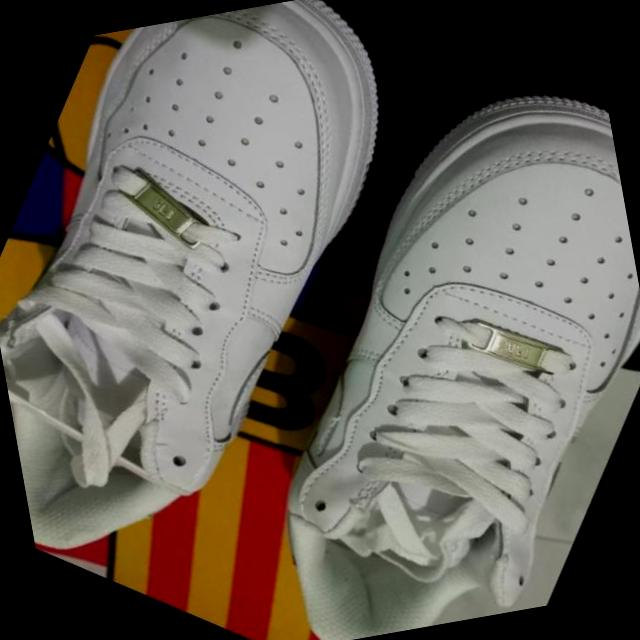nike_fake_airforce: (0, 0, 518, 633), (129, 18, 640, 640)
